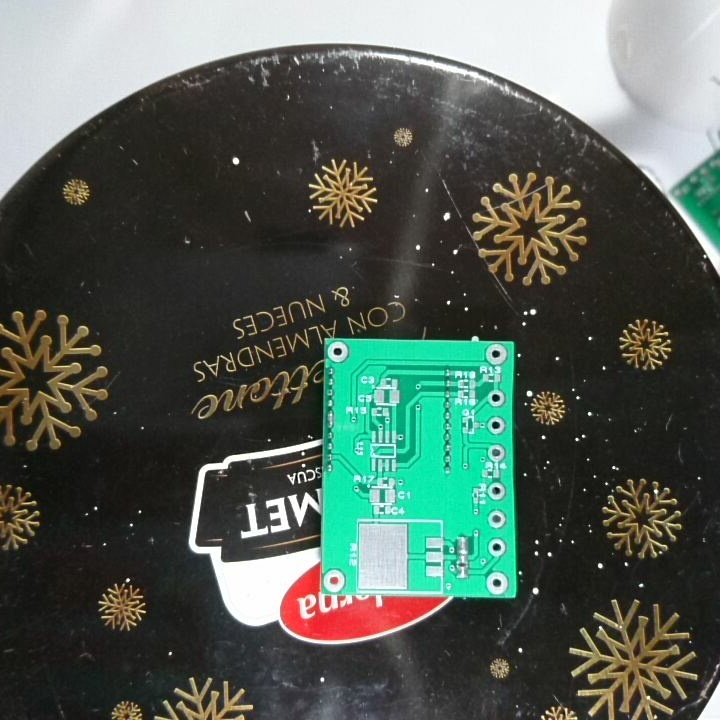F: (322, 567, 347, 595), (484, 570, 510, 596), (325, 338, 351, 363), (484, 342, 508, 367), (485, 413, 508, 438), (485, 441, 508, 464), (485, 480, 508, 503), (485, 508, 508, 531), (485, 536, 509, 558), (486, 388, 507, 409)
P: (453, 536, 471, 566), (325, 407, 336, 430)
